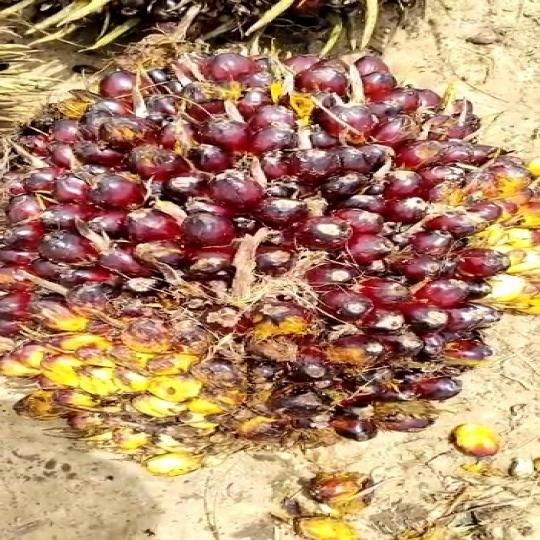kurang masak: (0, 43, 540, 492)
